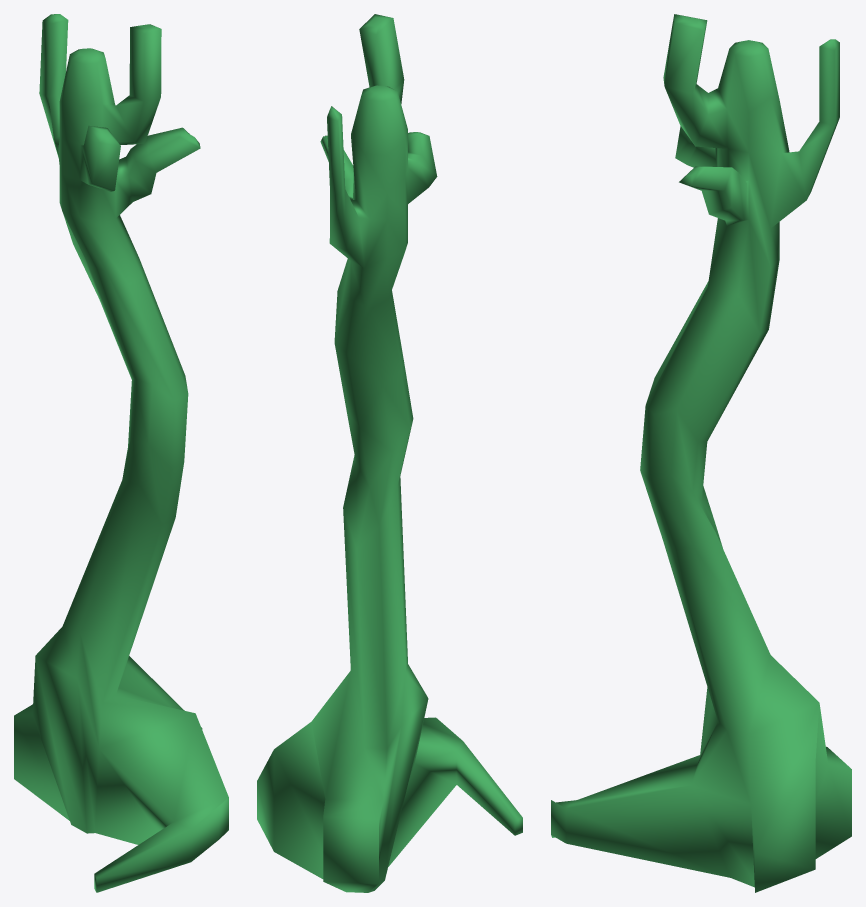
File: lacune.fbx_TreeLampSmall.fbx
The picture shows the model from 3 angles, left to right: view 1: azimuth 30°, elevation 25°; view 2: azimuth 150°, elevation 25°; view 3: azimuth 270°, elevation 25°; orthographic projection. The views are drawn at different scales.
Parts seen in each view (by area): view 1: TreeLampSmall; view 2: TreeLampSmall; view 3: TreeLampSmall.
Boxes of the visible parts, x1,y1,x2,y2 form: TreeLampSmall: (14,14,228,892); TreeLampSmall: (257,14,522,892); TreeLampSmall: (551,14,851,892).
Size of what is drawn, in the model's own units: 53.14 by 226 by 71.25.
